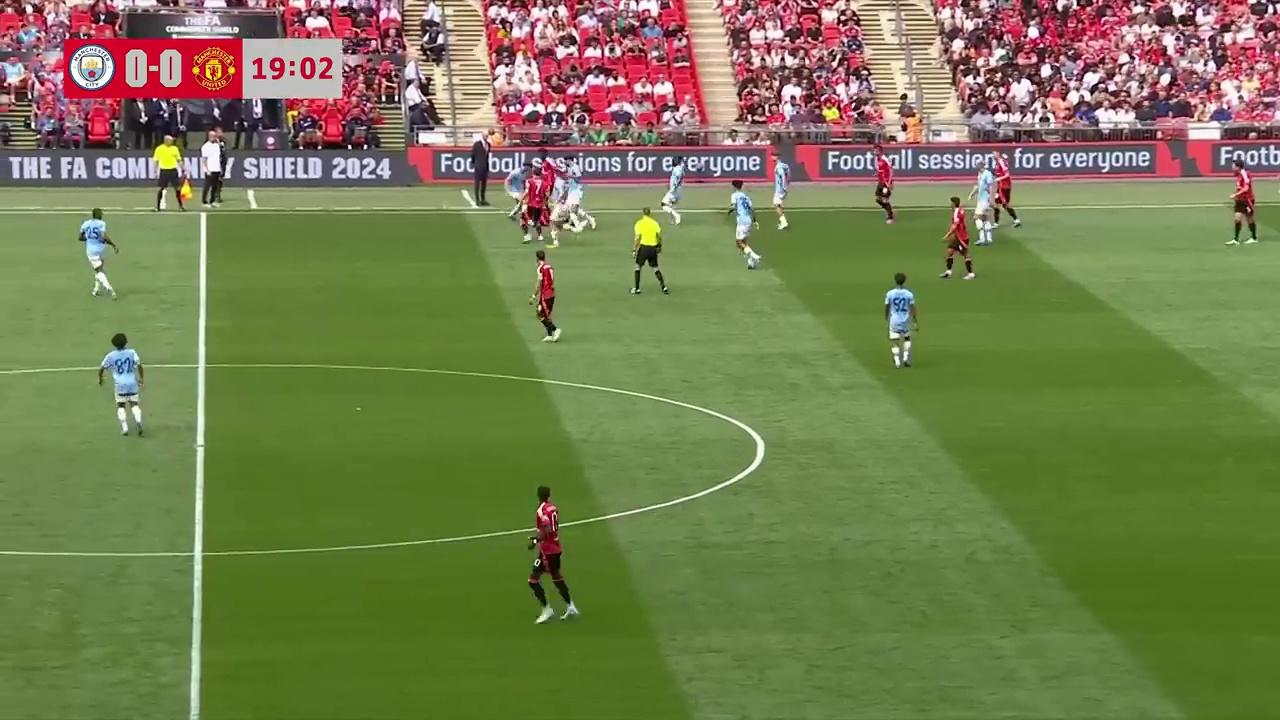player: (526, 485, 582, 624), (97, 332, 144, 437), (77, 208, 119, 299), (884, 272, 918, 368), (940, 199, 976, 281), (728, 181, 761, 268), (529, 251, 560, 342), (965, 161, 994, 247), (1228, 168, 1258, 245), (659, 153, 690, 226), (565, 161, 596, 233), (992, 152, 1020, 228), (521, 169, 548, 241), (873, 153, 895, 224), (506, 162, 529, 223), (533, 195, 559, 247), (550, 171, 567, 245), (537, 148, 561, 192), (772, 169, 789, 230)
referee: (630, 208, 669, 295), (155, 137, 189, 213)
